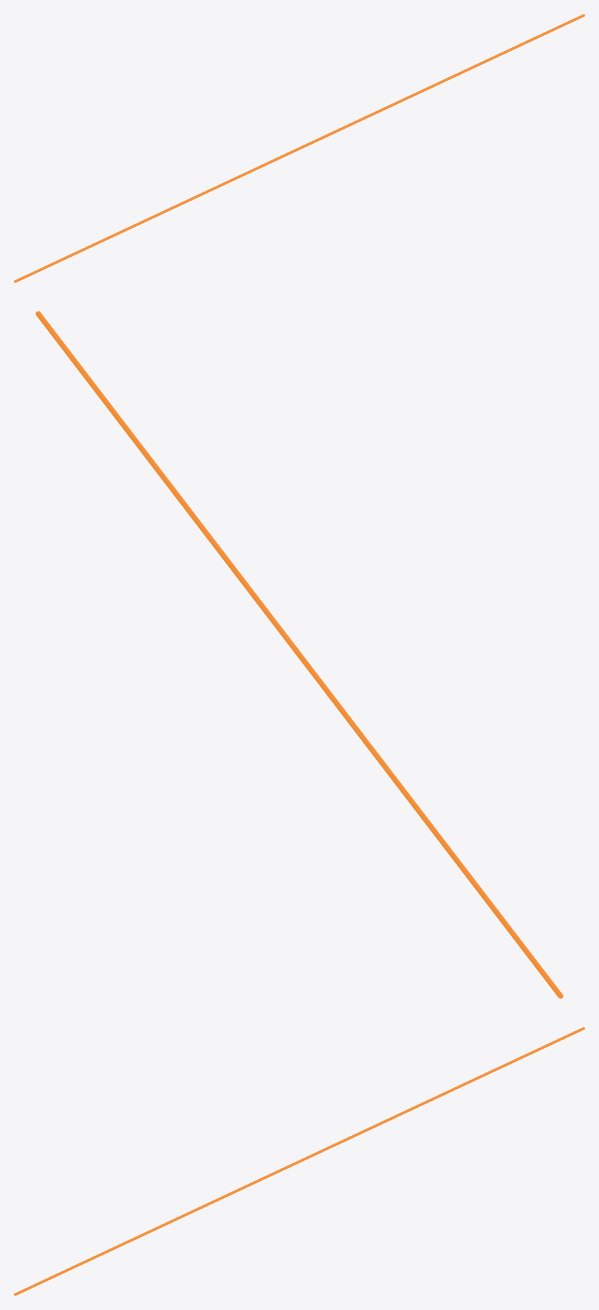
3 views of the same model, one above another, from view 1: azimuth 90°, elevation 25°; view 2: azimuth 150°, elevation 25°; view 3: azimuth 270°, elevation 25° (orthographic). The views are drawn at different scales.
Parts seen in each view (by area): view 1: BezierCurve.010; view 2: BezierCurve.010; view 3: BezierCurve.010.
Part boxes in pixels (x1,y1,x2,y2): BezierCurve.010: (14, 14, 584, 282); BezierCurve.010: (35, 311, 563, 998); BezierCurve.010: (14, 1027, 584, 1295).
Size of the model in its own units: 23.76 by 0.1 by 21.46.
